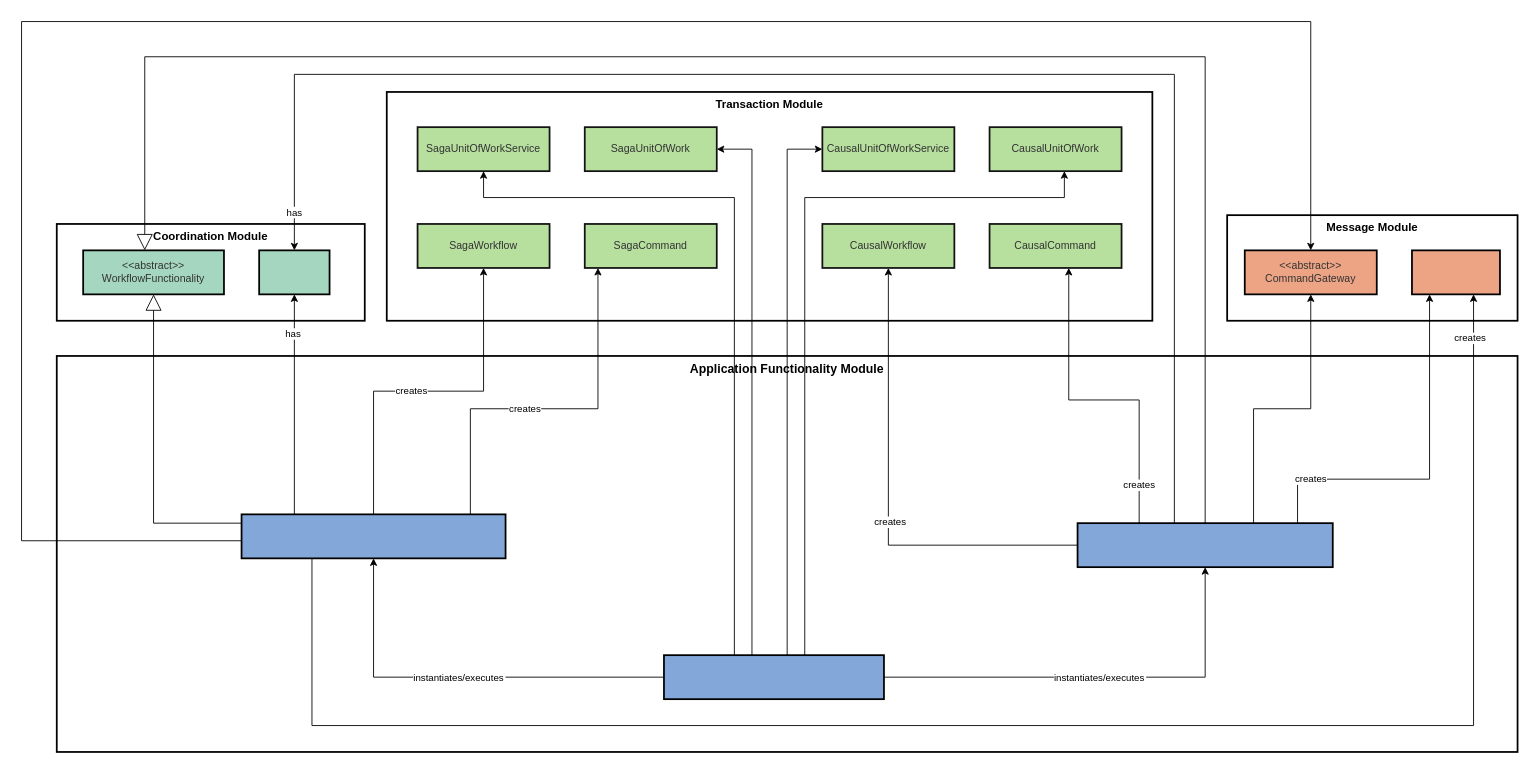
This 1534x768 diagram has some shape labels left out. The centre of each missing label's shape, as x and y in pixels:
"AddParticipantFunctionalitySagas" goes at point (373, 536).
"AddParticipantFunctionalityTCC" goes at point (1204, 545).
"Command" goes at point (1455, 272).
"Step" goes at point (294, 272).
"TournamentFunctionalities" goes at point (773, 677).
